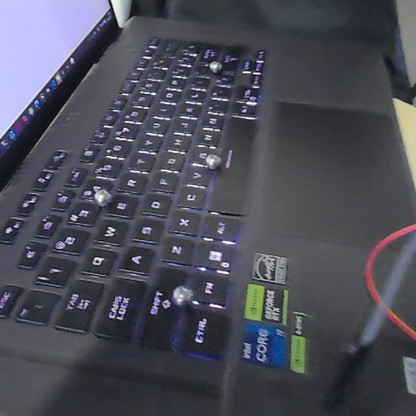ironball: (168, 279, 192, 307), (91, 184, 113, 209), (201, 149, 223, 173), (207, 57, 222, 76)
